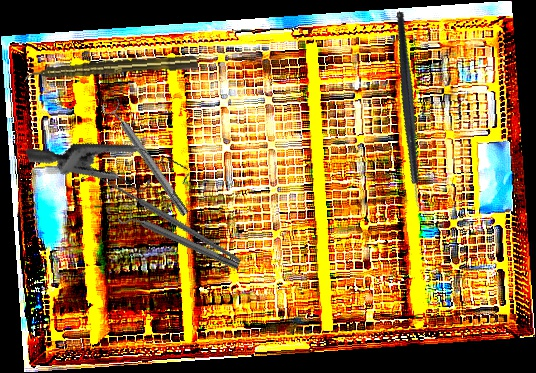Chopper: (347, 10, 480, 220)
Fixation Ring: (99, 95, 194, 221), (116, 203, 243, 277)
Handpiece: (23, 53, 199, 83)
Hook Surgical: (81, 128, 243, 310)
Speculum: (25, 100, 199, 250)
